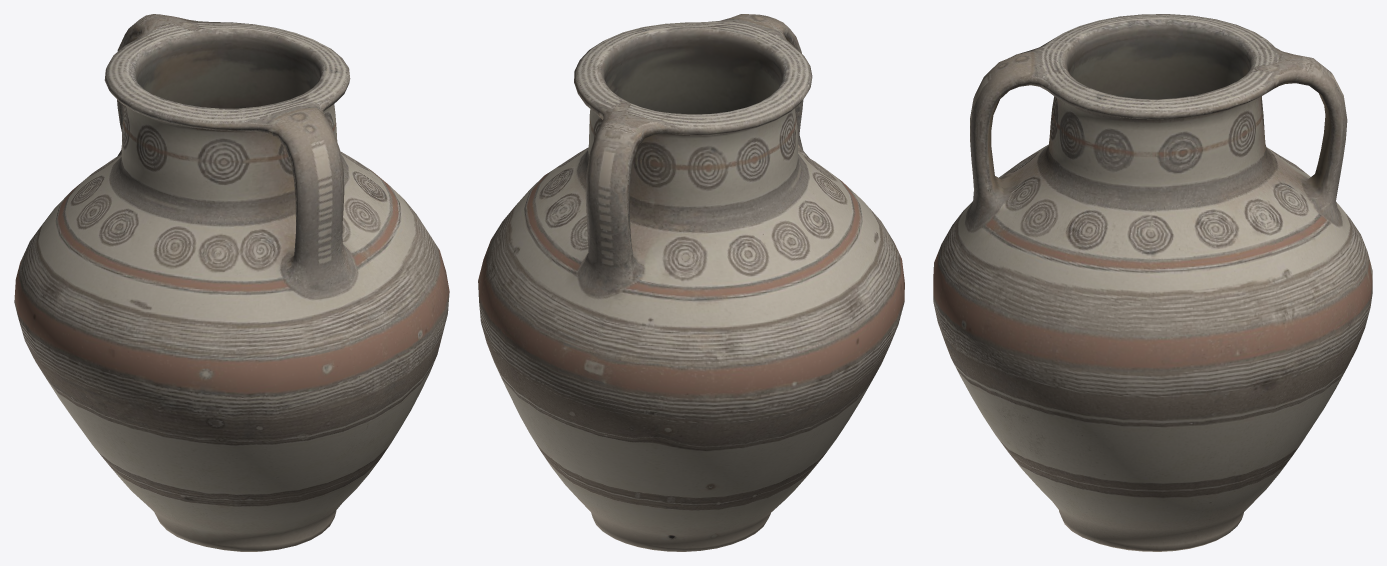
Rendered from pot.glb.
3 renders of one model, left to right at view 1: azimuth 30°, elevation 25°; view 2: azimuth 150°, elevation 25°; view 3: azimuth 270°, elevation 25°, orthographic.
Visible parts, largest first — view 1: VASE_7_ready; view 2: VASE_7_ready; view 3: VASE_7_ready.
Boxes of the visible parts, x1=… form: VASE_7_ready: x1=14, y1=14, x2=449, y2=551; VASE_7_ready: x1=478, y1=14, x2=904, y2=551; VASE_7_ready: x1=933, y1=14, x2=1372, y2=551.
Bounding box in the file's own units: 0.3326 × 0.3894 × 0.3425.
Materials: 1 (1 with a texture image).
